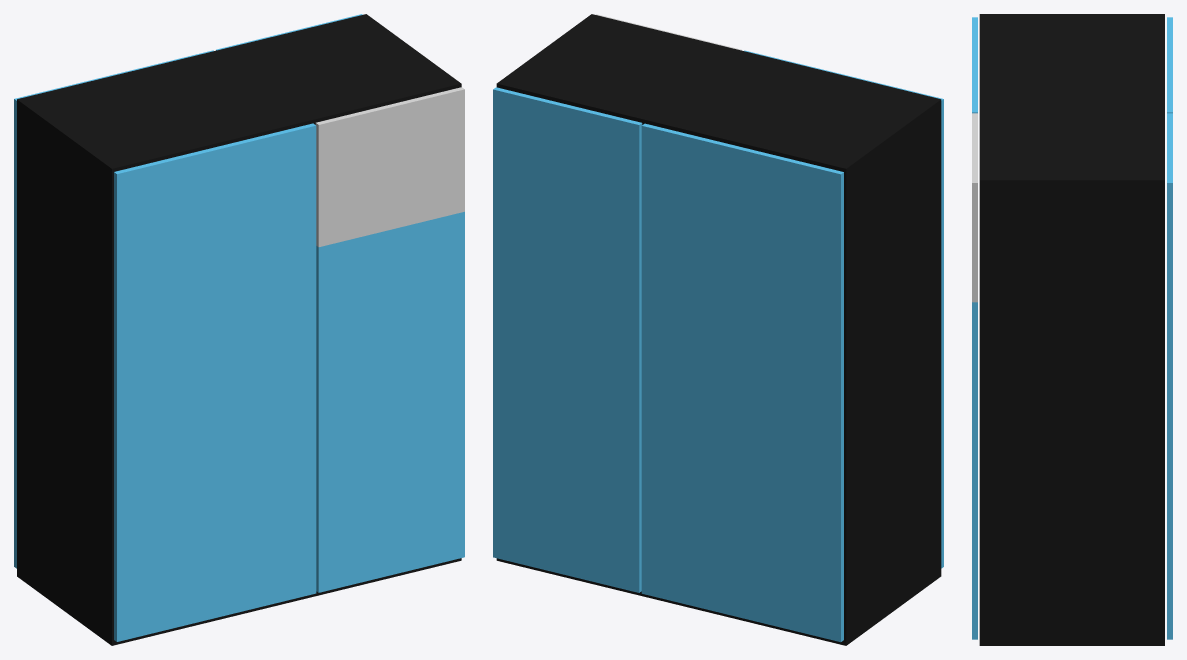
The model's file is pdp6_moby.FBX.
3 views of the same model, side by side, from view 1: azimuth 30°, elevation 25°; view 2: azimuth 150°, elevation 25°; view 3: azimuth 270°, elevation 25° (orthographic). The views are drawn at different scales.
Parts seen in each view (by area): view 1: Box126, cabinet_box002, Box124, Box129, Box127; view 2: Box127, cabinet_box002, Box128, Box126; view 3: cabinet_box002, Box128, Box124, Box129, Box127, Box126.
Boxes of the visible parts, x1,y1,x2,y2 form: Box126: (114, 123, 316, 641); cabinet_box002: (17, 14, 461, 645); Box124: (316, 211, 464, 592); Box129: (315, 87, 464, 246); Box127: (14, 50, 213, 568); Box127: (641, 123, 843, 642); cabinet_box002: (496, 14, 941, 645); Box128: (493, 87, 642, 592); Box126: (744, 50, 943, 568); cabinet_box002: (979, 14, 1164, 645); Box128: (1167, 113, 1172, 639); Box124: (972, 302, 977, 639); Box129: (972, 113, 977, 302); Box127: (1167, 17, 1172, 113); Box126: (972, 17, 977, 113).
Bounding box in the file's own units: 132 × 67.09 × 172.
